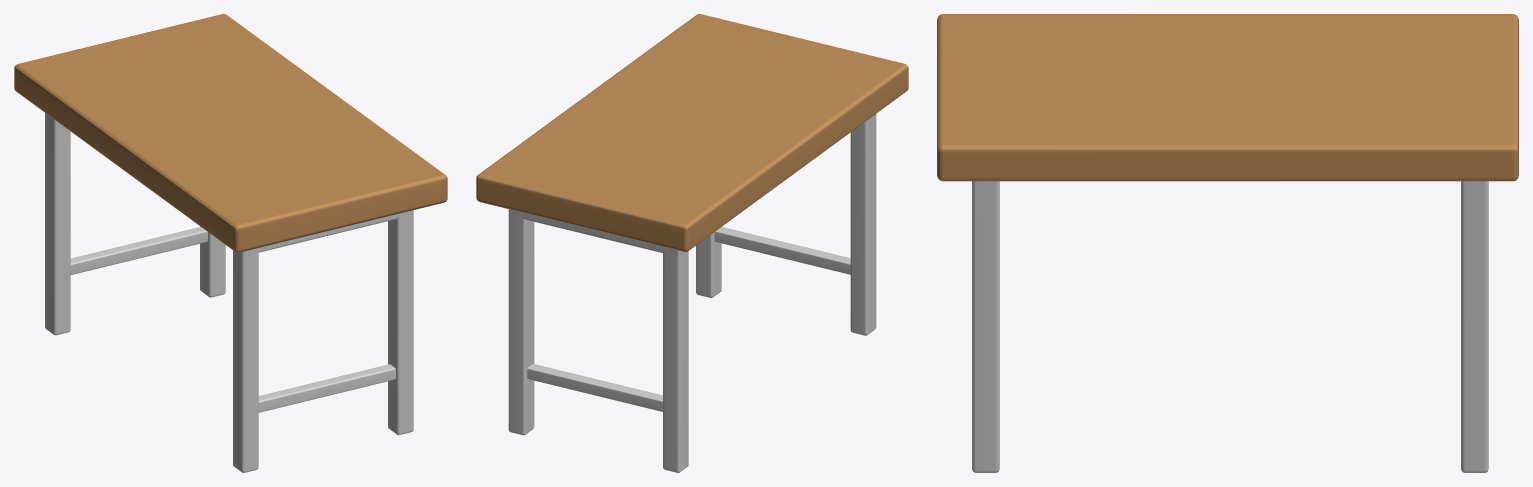
File: desk.fbx
3 renders of one model, left to right at view 1: azimuth 30°, elevation 25°; view 2: azimuth 150°, elevation 25°; view 3: azimuth 270°, elevation 25°, orthographic. The views are drawn at different scales.
Visible parts, largest first — view 1: pCube11, pasted__pasted__pCube12 (×2), pasted__pasted__pasted__pCube12 (×2), pasted__pCube12, pasted__pasted__pCube13, pasted__pCube13; view 2: pCube11, pasted__pasted__pCube12 (×3), pasted__pCube12, pasted__pasted__pCube13, pasted__pCube13, pasted__pasted__pasted__pCube12; view 3: pCube11, pasted__pasted__pasted__pCube12, pasted__pasted__pCube12.
Part boxes in pixels (x1,y1,x2,y2): pCube11: (14,14,447,252); pasted__pasted__pCube12 (×2): (200,226,258,472); pasted__pasted__pasted__pCube12 (×2): (239,210,413,435); pasted__pCube12: (45,113,70,335); pasted__pasted__pCube13: (258,364,395,412); pasted__pCube13: (70,227,207,274); pCube11: (476,14,908,251); pasted__pasted__pCube12 (×3): (508,114,876,435); pasted__pCube12: (663,249,688,472); pasted__pasted__pCube13: (714,227,850,274); pasted__pCube13: (527,364,662,411); pasted__pasted__pasted__pCube12: (696,232,721,297); pCube11: (937,14,1518,181); pasted__pasted__pasted__pCube12: (972,181,999,472); pasted__pasted__pCube12: (1461,181,1488,472).
Bounding box in the file's own units: 1.2 × 1.41 × 2.18.
